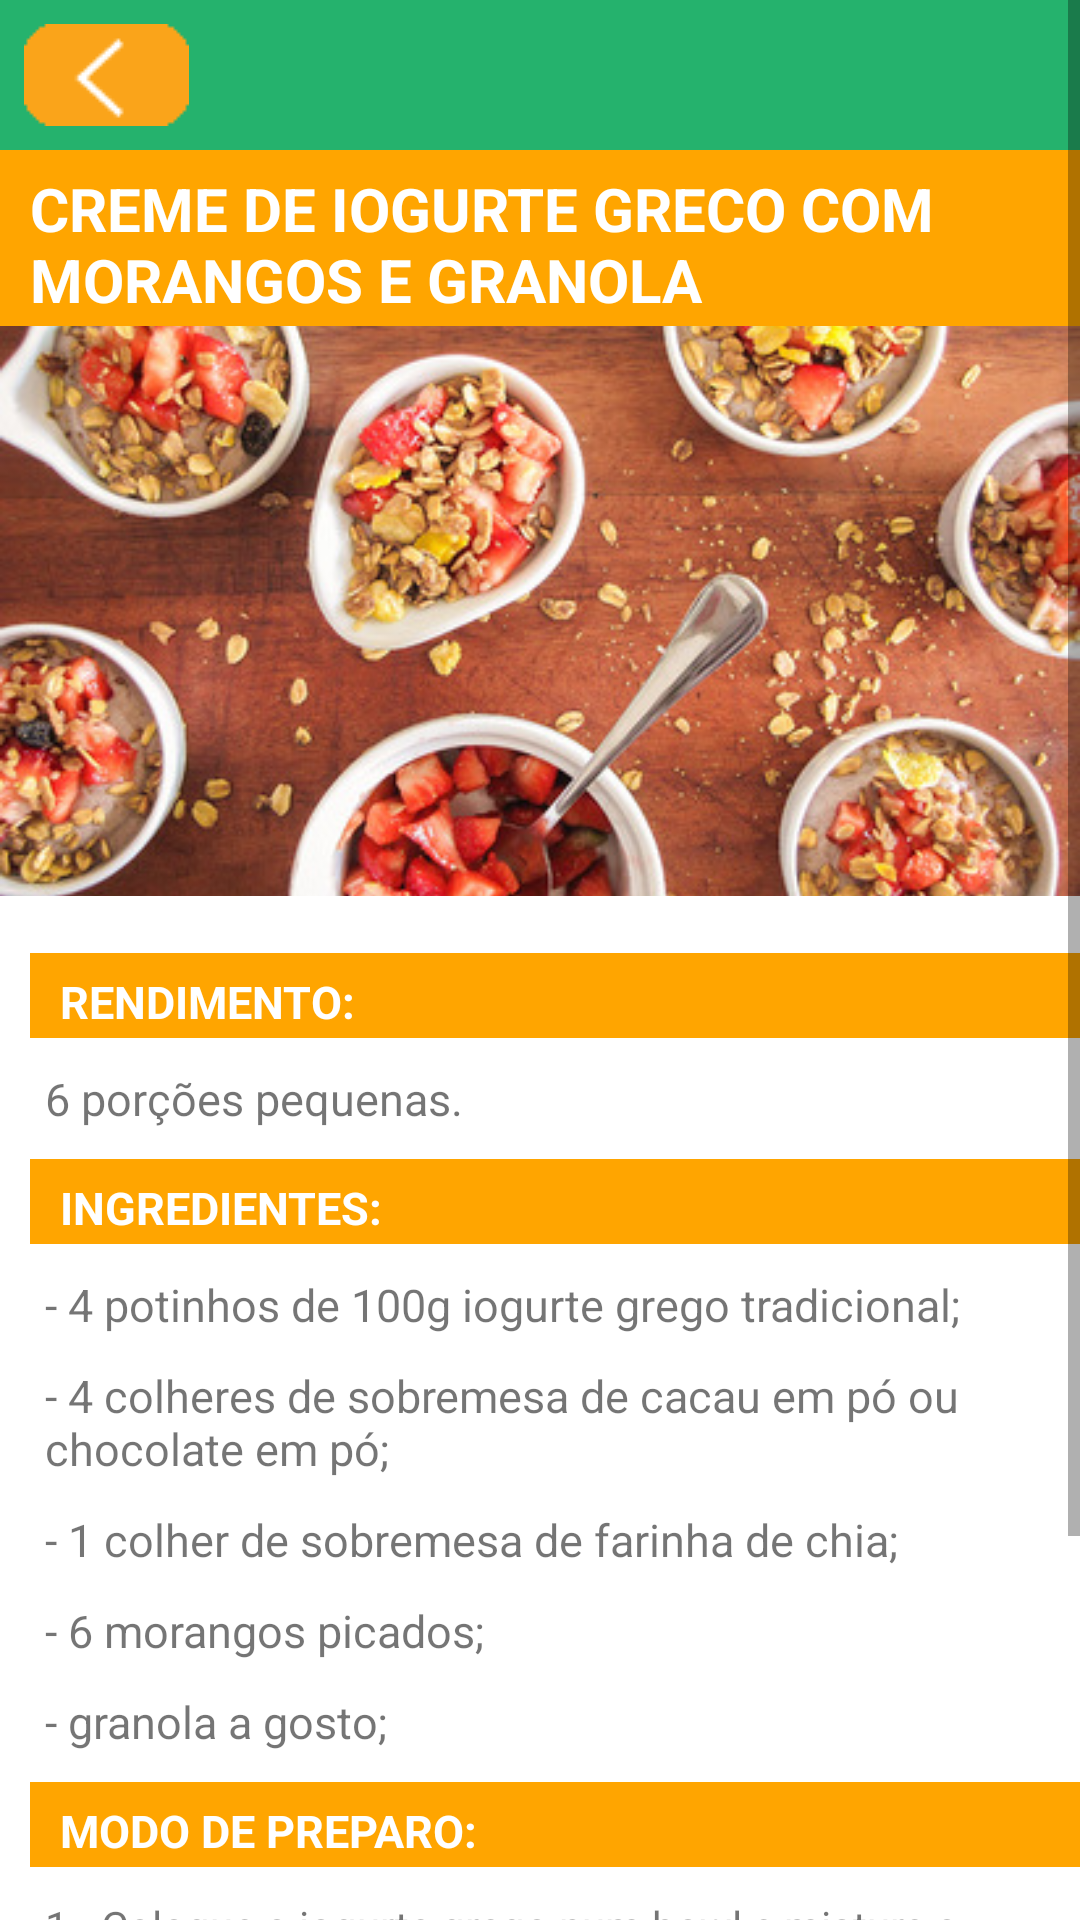

Locate icon controls on the screen. Image size 1080 x 1920, boxes as (x1, y1, x2, y2).
return: (24, 24, 189, 126)
